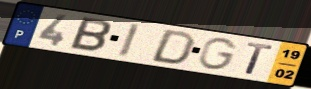4: (35, 13, 69, 48)
B: (67, 15, 114, 54)
D: (148, 28, 198, 66)
G: (197, 37, 240, 72)
I: (116, 22, 143, 60)
T: (243, 41, 276, 77)
